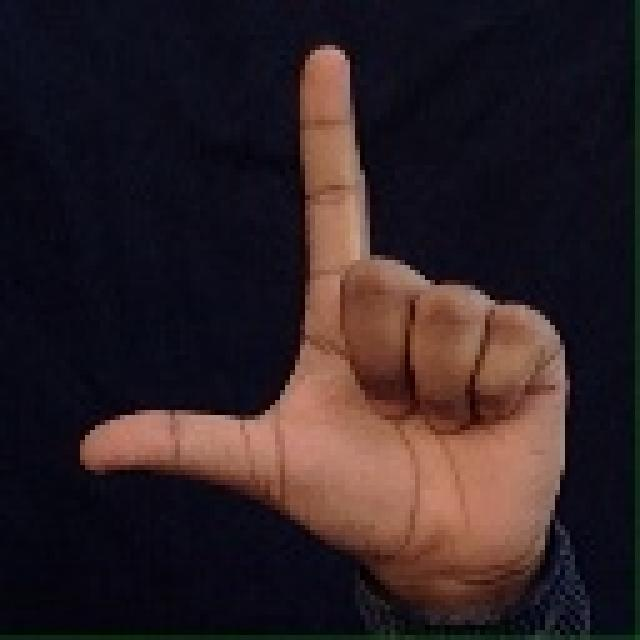L: (86, 38, 582, 597)
